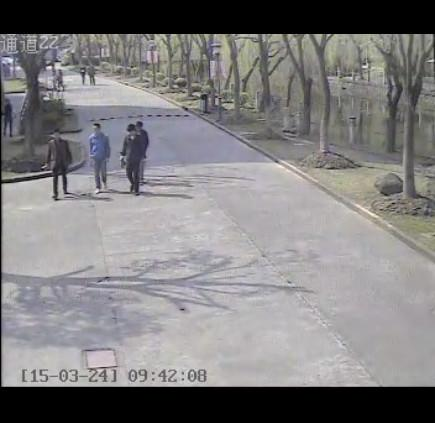person: (39, 124, 77, 204), (86, 121, 115, 197), (119, 119, 146, 200), (1, 96, 17, 141), (86, 59, 99, 90), (75, 64, 89, 87)
